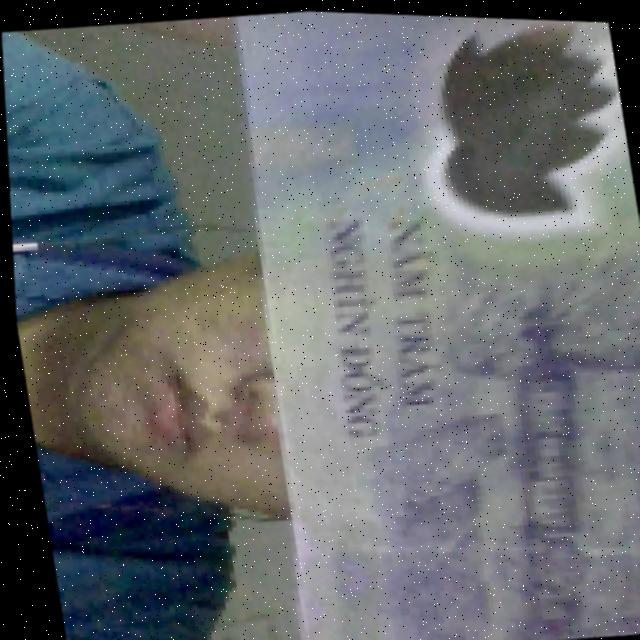500 000 VND: (202, 6, 640, 640)
